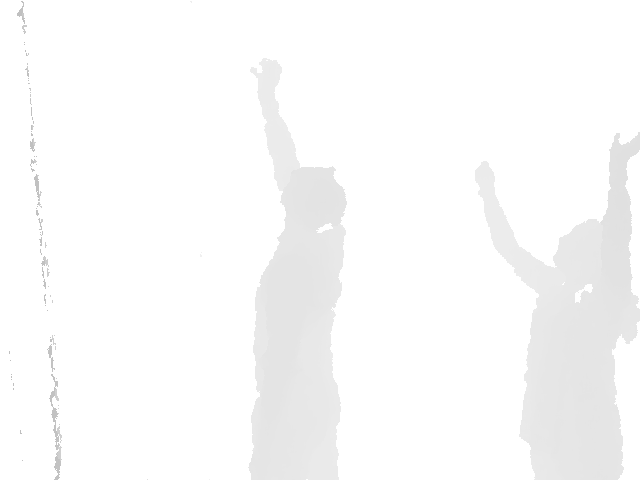hand: (249, 59, 283, 105), (609, 129, 640, 165), (473, 160, 498, 195)
head: (280, 164, 347, 232), (552, 218, 607, 284)
person: (473, 129, 640, 480), (245, 59, 348, 479)
